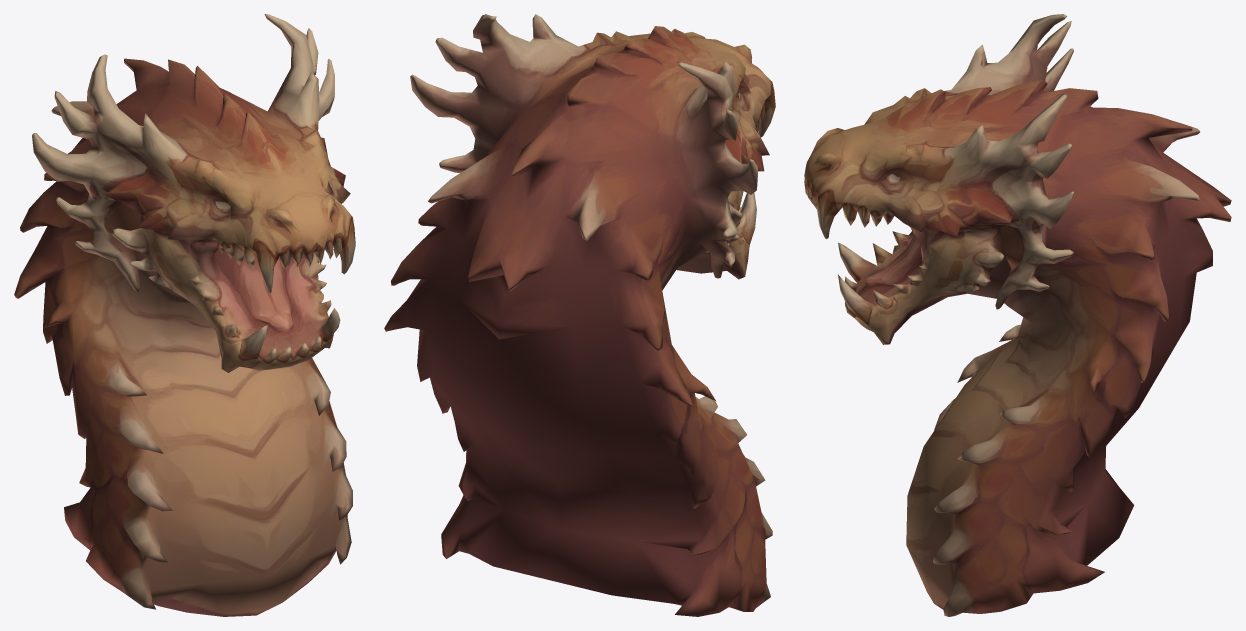
The model's file is serpent_tripo.glb.
3 renders of one model, left to right at view 1: azimuth 30°, elevation 25°; view 2: azimuth 150°, elevation 25°; view 3: azimuth 270°, elevation 25°, orthographic. The views are drawn at different scales.
Parts seen in each view (by area): view 1: tripo_node_41773645-a75a-411e-b5bd-ff1a8179b353; view 2: tripo_node_41773645-a75a-411e-b5bd-ff1a8179b353; view 3: tripo_node_41773645-a75a-411e-b5bd-ff1a8179b353.
Boxes of the visible parts, bbox=[...] form: tripo_node_41773645-a75a-411e-b5bd-ff1a8179b353: bbox=[14, 14, 355, 616]; tripo_node_41773645-a75a-411e-b5bd-ff1a8179b353: bbox=[384, 14, 775, 616]; tripo_node_41773645-a75a-411e-b5bd-ff1a8179b353: bbox=[804, 14, 1231, 616].
Size of the model in its own units: 0.5918 by 0.998 by 0.7207.
1 material, 1 textured.
